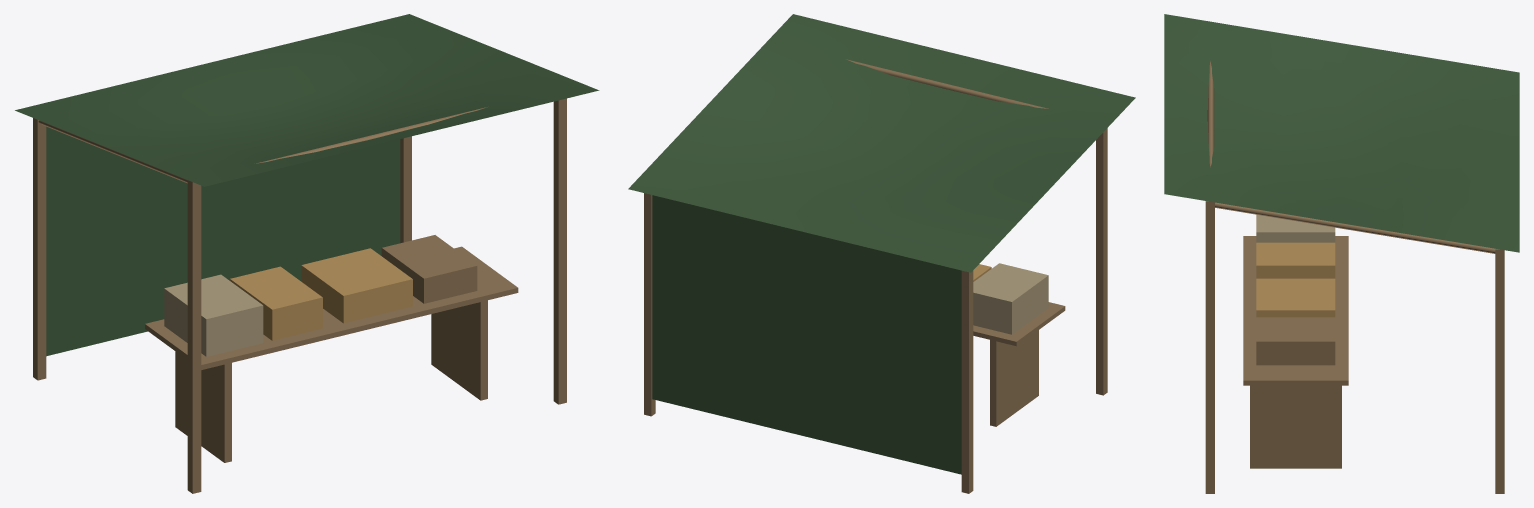
Rendered from SM_stall1.glb.
The picture shows the model from 3 angles, left to right: view 1: azimuth 30°, elevation 25°; view 2: azimuth 150°, elevation 25°; view 3: azimuth 270°, elevation 25°; orthographic projection. The views are drawn at different scales.
Visible parts, largest first — view 1: SM_stall1; view 2: SM_stall1; view 3: SM_stall1.
Part boxes in pixels (bbox=[...]): SM_stall1: bbox=[15, 14, 599, 493]; SM_stall1: bbox=[628, 14, 1135, 493]; SM_stall1: bbox=[1164, 14, 1519, 493].
Bounding box in the file's own units: 3.24 × 2.55 × 2.7.
